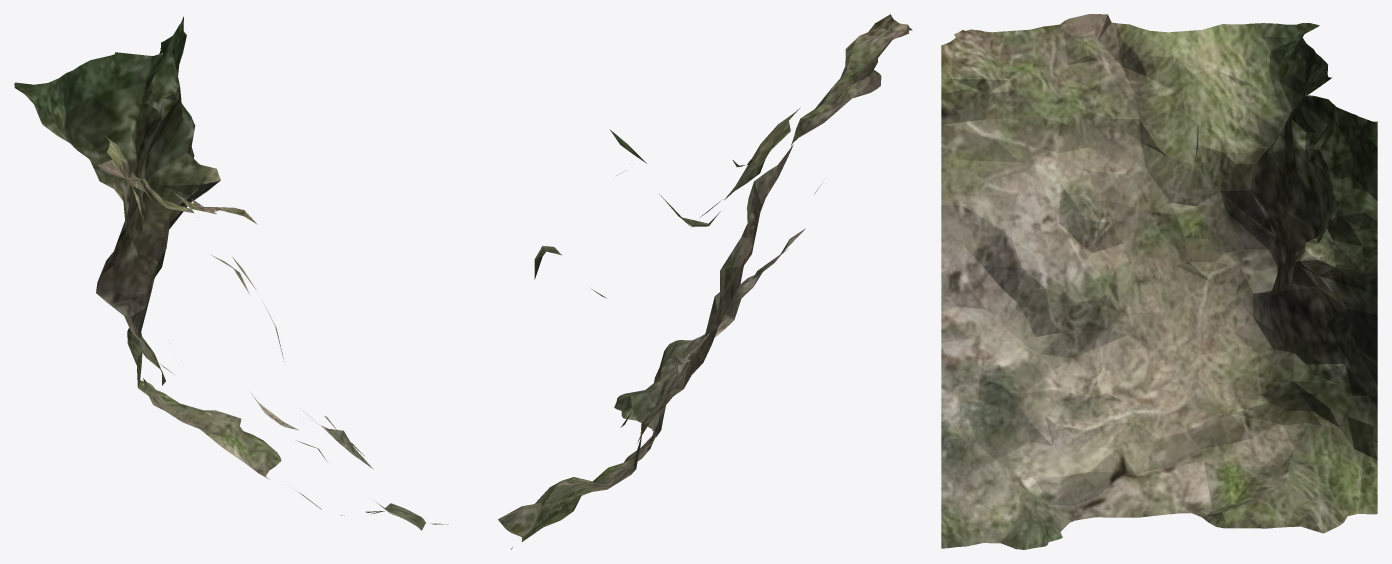
The picture shows the model from 3 angles, left to right: view 1: azimuth 30°, elevation 25°; view 2: azimuth 150°, elevation 25°; view 3: azimuth 270°, elevation 25°; orthographic projection. The views are drawn at different scales.
Size of the model in its own units: 2.24 by 2.95 by 2.95.
3 materials, 3 textured.
